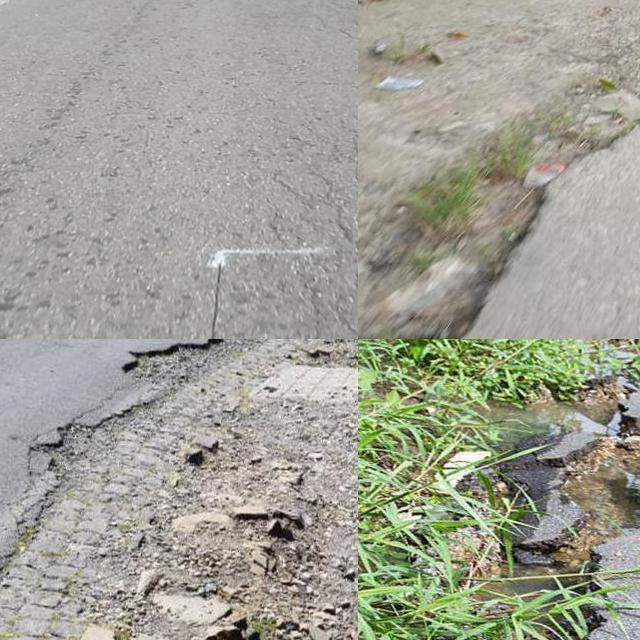Pinggir: (0, 339, 325, 640), (406, 83, 640, 339), (436, 372, 640, 640)
